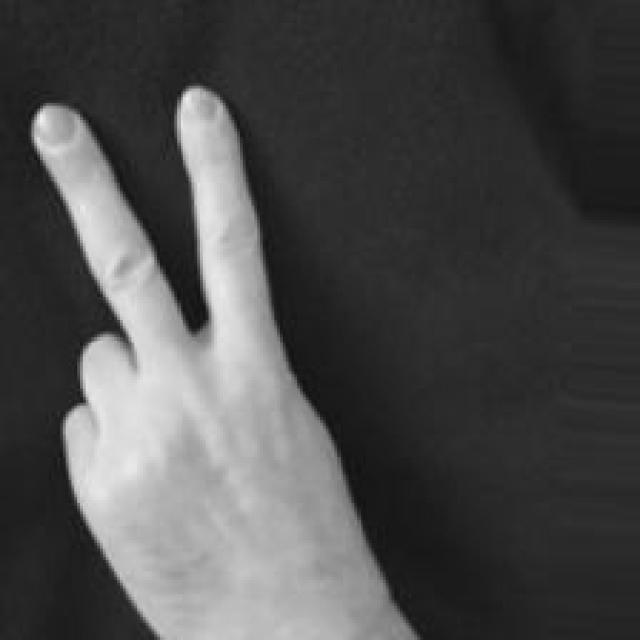V: (26, 81, 408, 640)
